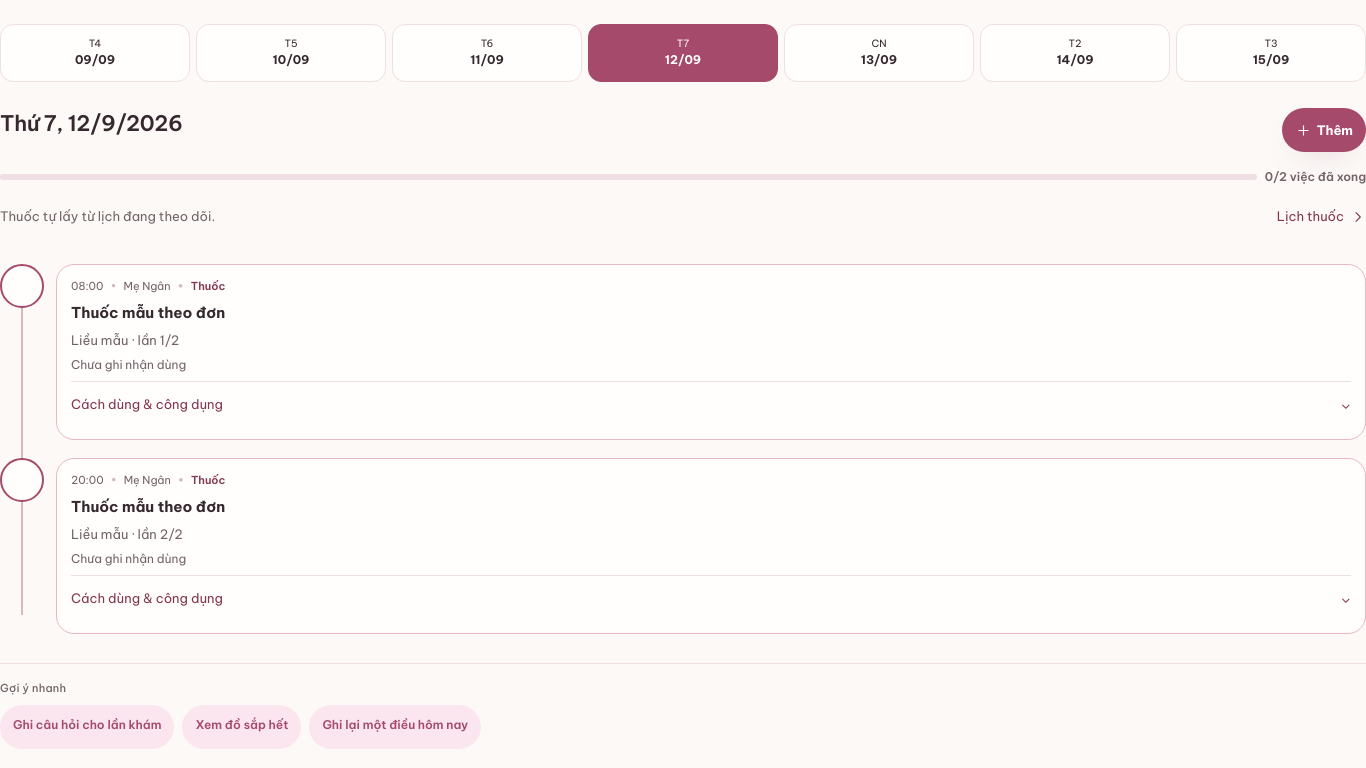
Test case: refreshes medication changes without losing a task draft or creating another task
The image size is (1366, 768).
expect the text "0/2 việc đã xong" is shown: met, box [1265, 168, 1365, 187]
Click the button with aria-label "Thêm việc mới" at (1324, 130), box [1282, 108, 1365, 152]
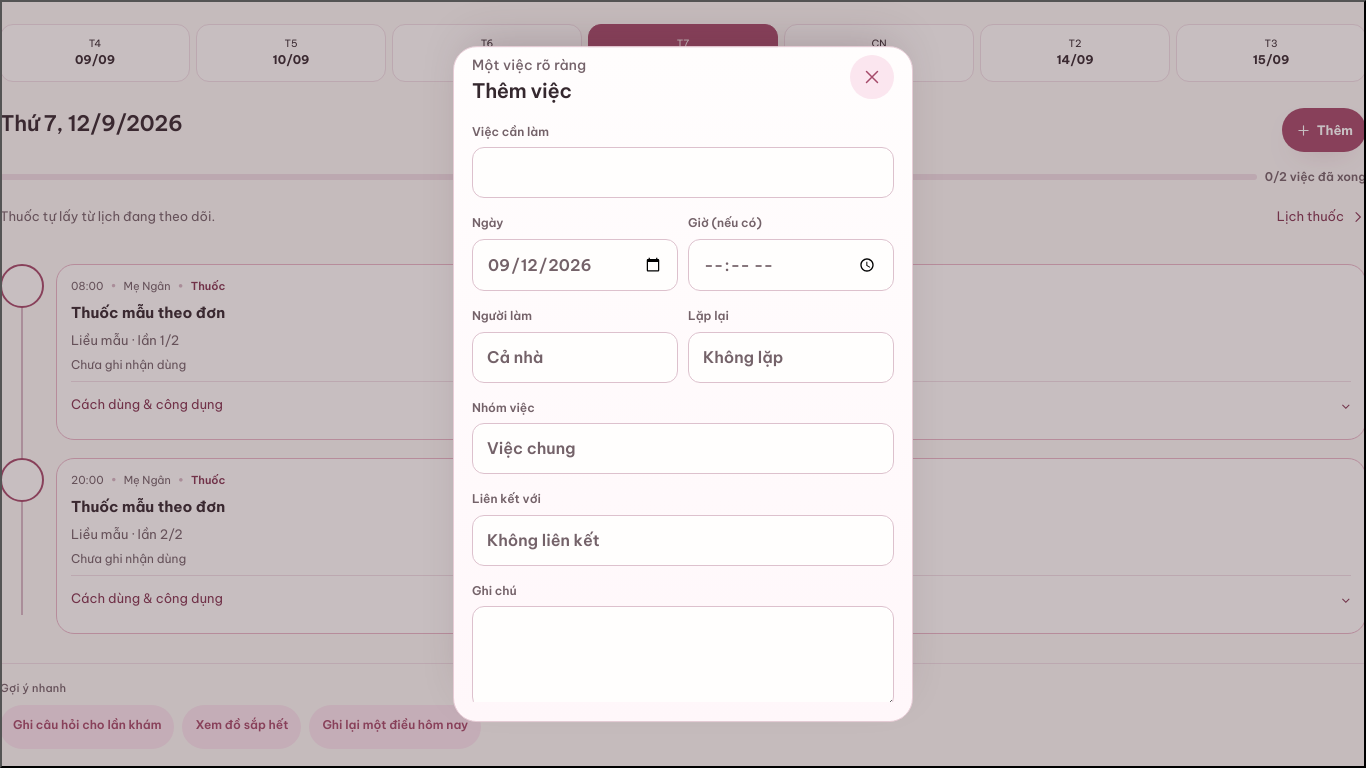
Type "Bản nháp chưa lưu" into the field labelled "Việc cần làm" at (683, 173), box [472, 147, 894, 198]
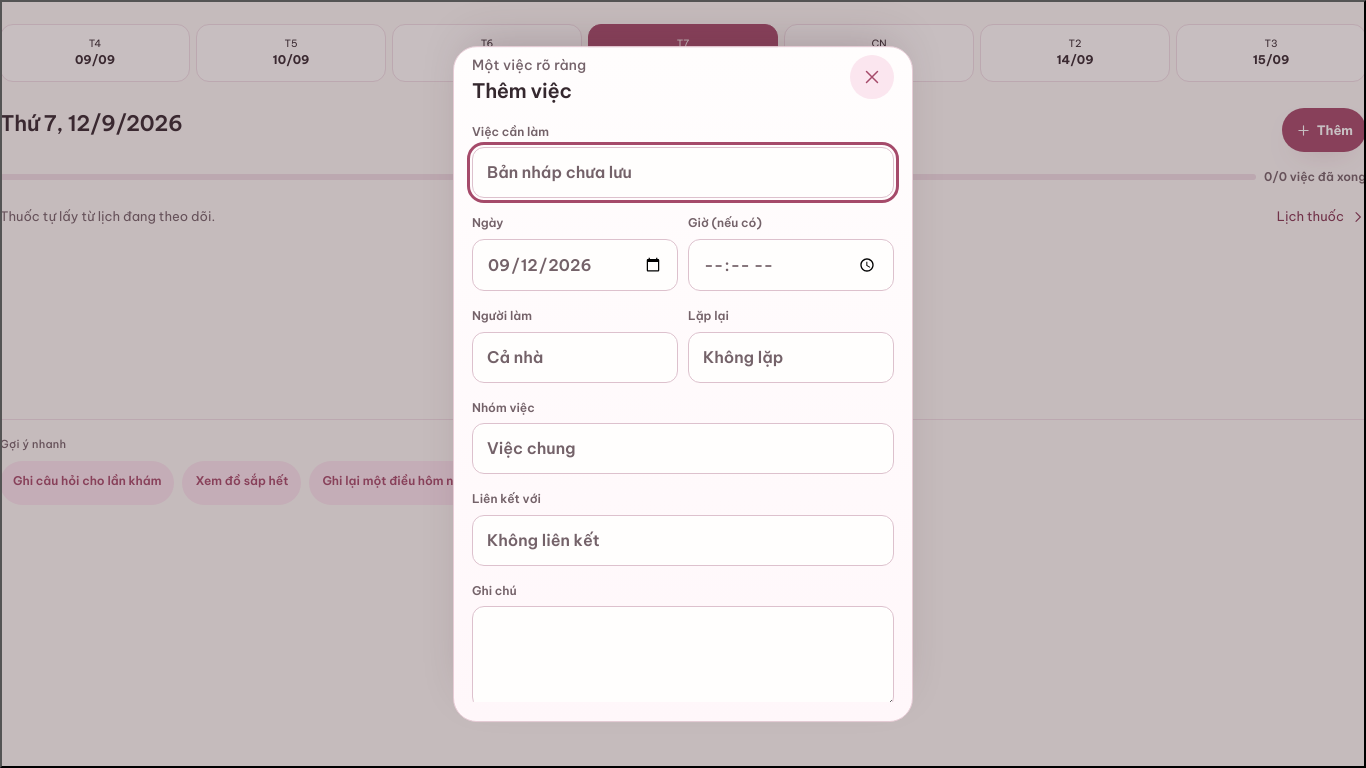
expect the text "0/0 việc đã xong" is shown: met, box [1264, 168, 1365, 187]
